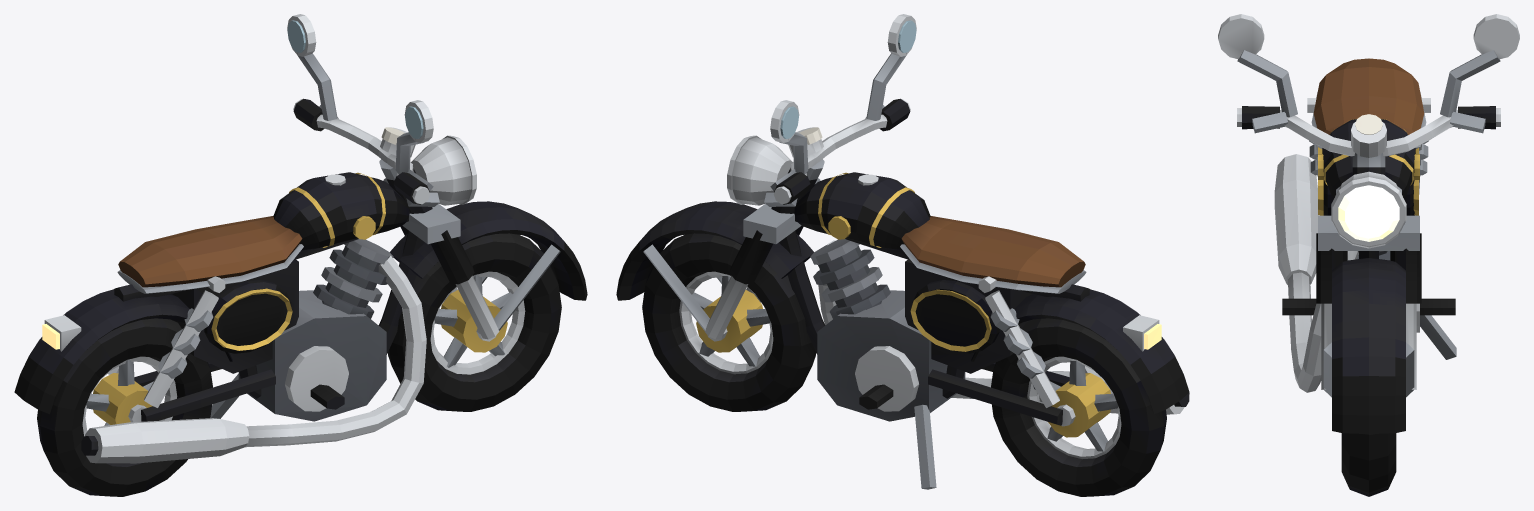
File: mt_motorcycle_black.glb
3 views of the same model, side by side, from view 1: azimuth 30°, elevation 25°; view 2: azimuth 150°, elevation 25°; view 3: azimuth 270°, elevation 25° (orthographic). The views are drawn at different scales.
Visible parts, largest first — view 1: base, wheelF_m, wheelR_m, bars_m; view 2: base, wheelR_m, wheelF_m, bars_m; view 3: base, bars_m, wheelF_m.
Boxes of the visible parts, x1=… form: base: x1=14, y1=168, x2=587, y2=463; wheelF_m: x1=388, y1=233, x2=561, y2=411; wheelR_m: x1=37, y1=318, x2=212, y2=496; bars_m: x1=287, y1=14, x2=476, y2=206; base: x1=616, y1=168, x2=1189, y2=489; wheelR_m: x1=991, y1=318, x2=1166, y2=496; wheelF_m: x1=642, y1=233, x2=815, y2=411; bars_m: x1=727, y1=14, x2=916, y2=206; base: x1=1274, y1=58, x2=1456, y2=433; bars_m: x1=1218, y1=14, x2=1519, y2=248; wheelF_m: x1=1341, y1=433, x2=1396, y2=496.
Bounding box in the file's own units: 0.8442 × 0.5487 × 0.366.
